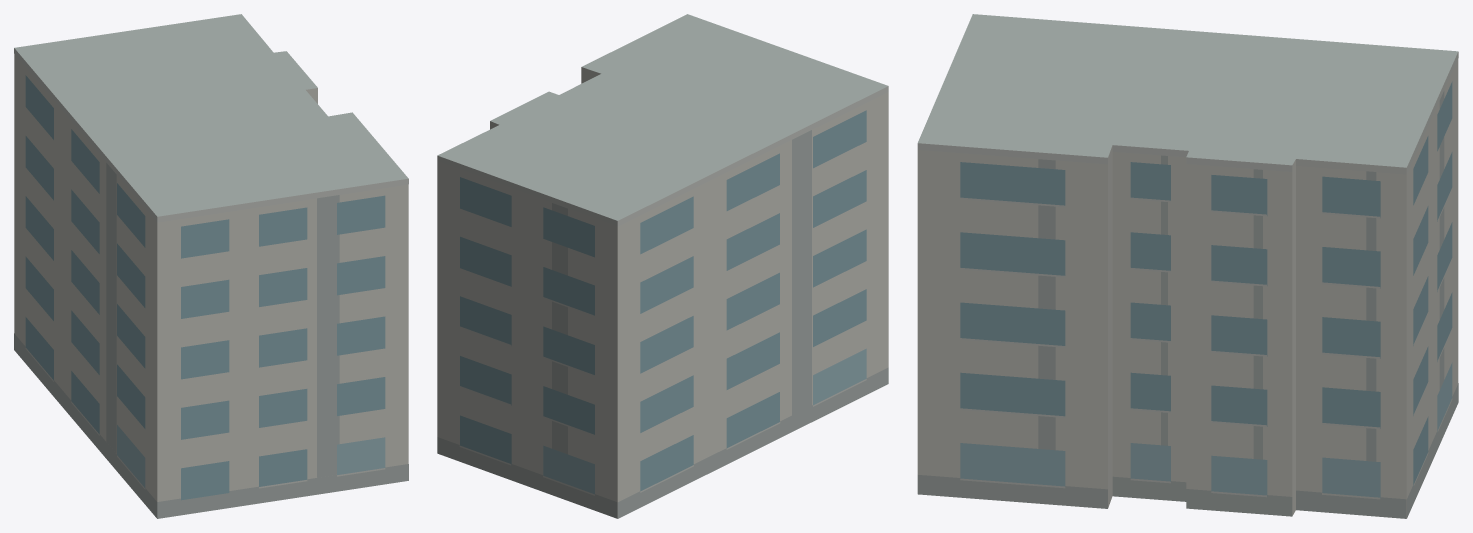
Rendered from survey-upis-32539427.glb.
3 views of the same model, side by side, from view 1: azimuth 30°, elevation 25°; view 2: azimuth 150°, elevation 25°; view 3: azimuth 270°, elevation 25° (orthographic). The views are drawn at different scales.
Parts seen in each view (by area): view 1: survey-upis-32539427.tmp; view 2: survey-upis-32539427.tmp; view 3: survey-upis-32539427.tmp.
Part boxes in pixels (x1,y1,x2,y2): survey-upis-32539427.tmp: (14, 14, 408, 518); survey-upis-32539427.tmp: (437, 14, 888, 518); survey-upis-32539427.tmp: (917, 14, 1458, 518).
Bounding box in the file's own units: 11.93 × 12.7 × 17.74.
